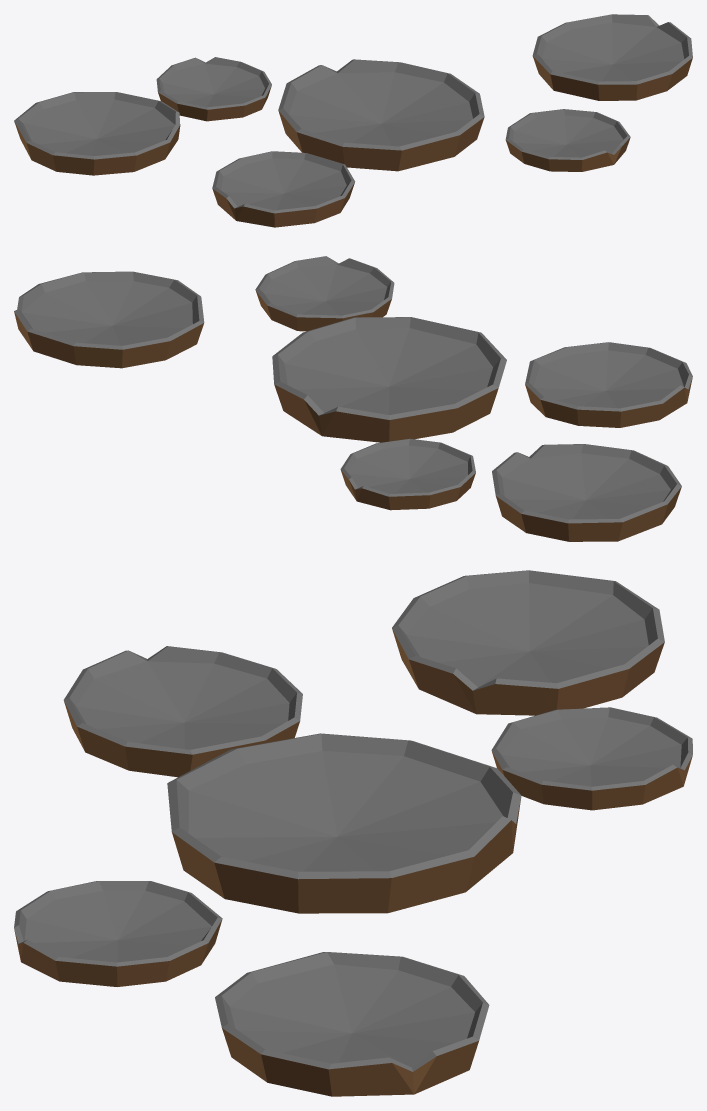
File: SM_Gen_Env_Lilypads_03.glb
3 renders of one model, top to bottom at view 1: azimuth 30°, elevation 25°; view 2: azimuth 150°, elevation 25°; view 3: azimuth 270°, elevation 25°, orthographic. The views are drawn at different scales.
Visible parts, largest first — view 1: SM_Gen_Env_Lilypads_03; view 2: SM_Gen_Env_Lilypads_03; view 3: SM_Gen_Env_Lilypads_03.
Boxes of the visible parts, x1,y1,x2,y2 form: SM_Gen_Env_Lilypads_03: (14, 14, 692, 227); SM_Gen_Env_Lilypads_03: (14, 256, 692, 541); SM_Gen_Env_Lilypads_03: (14, 570, 692, 1096).
Bounding box in the file's own units: 2.91 × 0.1361 × 1.67.
Materials: 1 (1 with a texture image).
